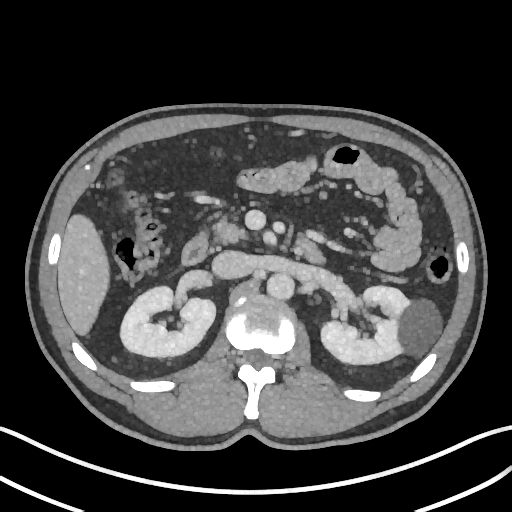Lesion: (394, 292, 445, 362)
